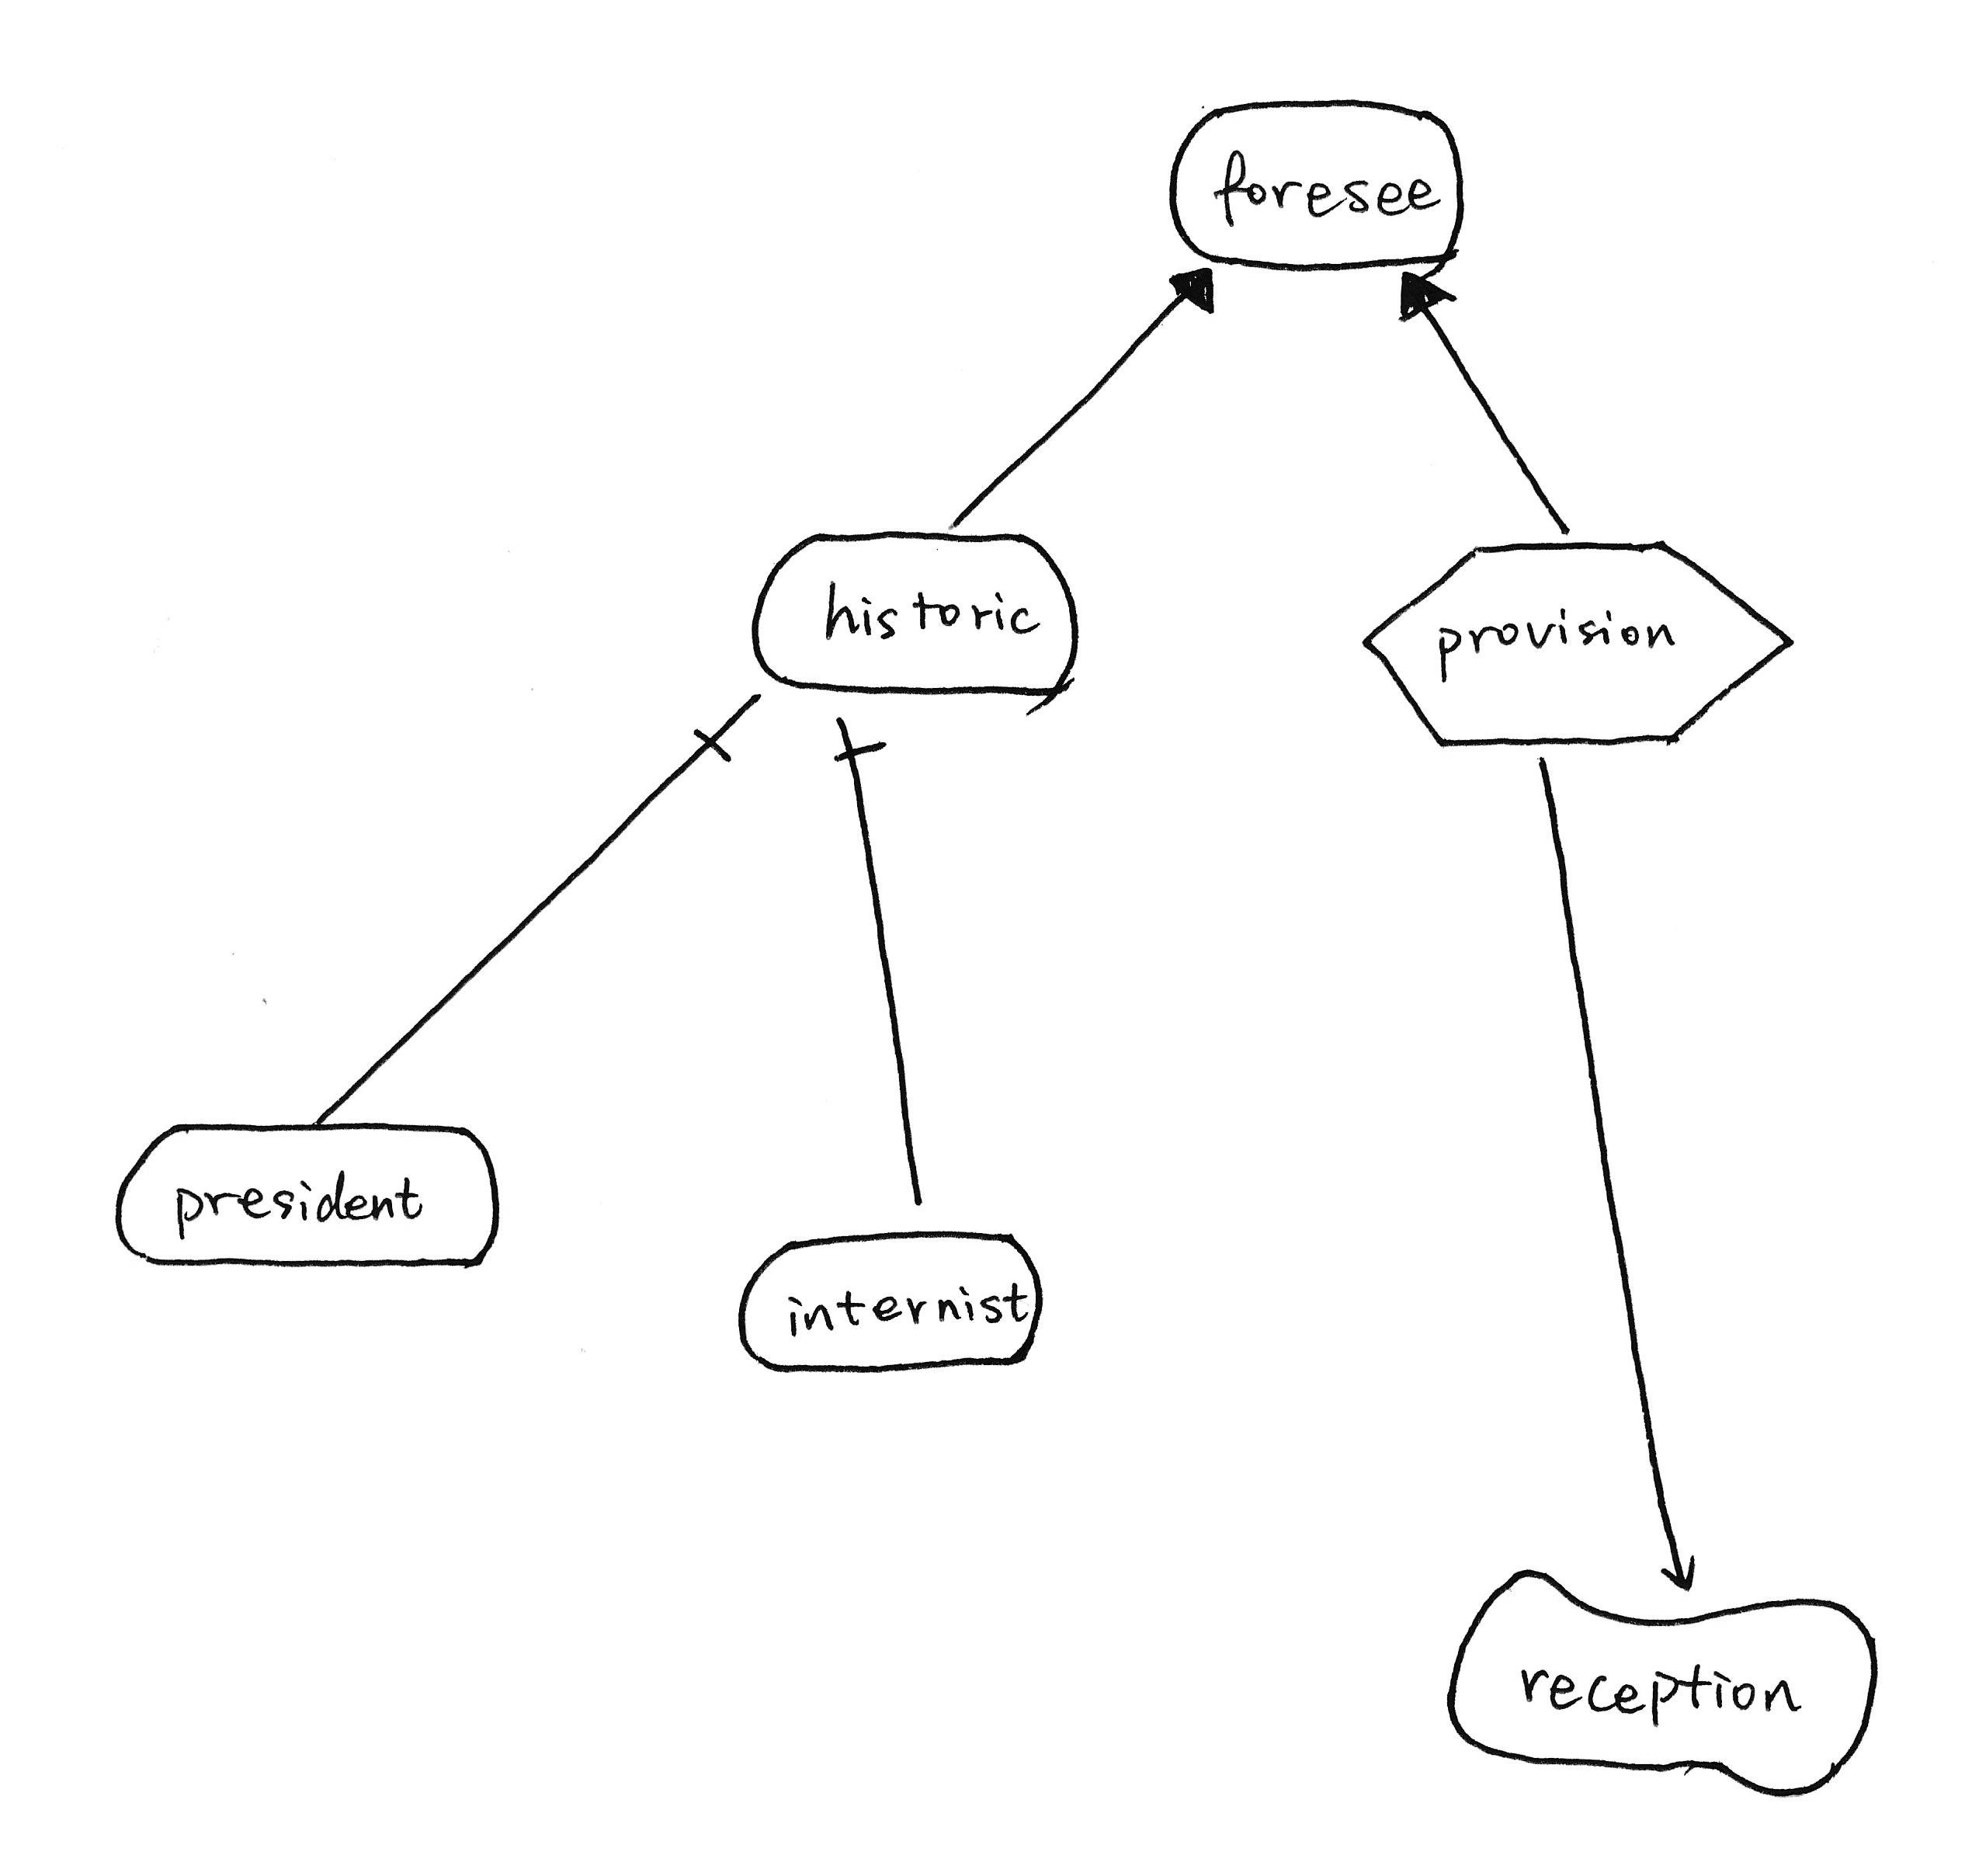and: (678, 676, 766, 770), (810, 696, 893, 784)
arrow: (1637, 1536, 1715, 1601)
goal: (95, 1104, 521, 1298), (736, 514, 1104, 728), (1155, 79, 1483, 307), (711, 1215, 1056, 1393)
or: (1382, 250, 1467, 340), (1152, 245, 1234, 328)
quality: (1424, 1543, 1902, 1814)
task: (1340, 518, 1819, 773)
